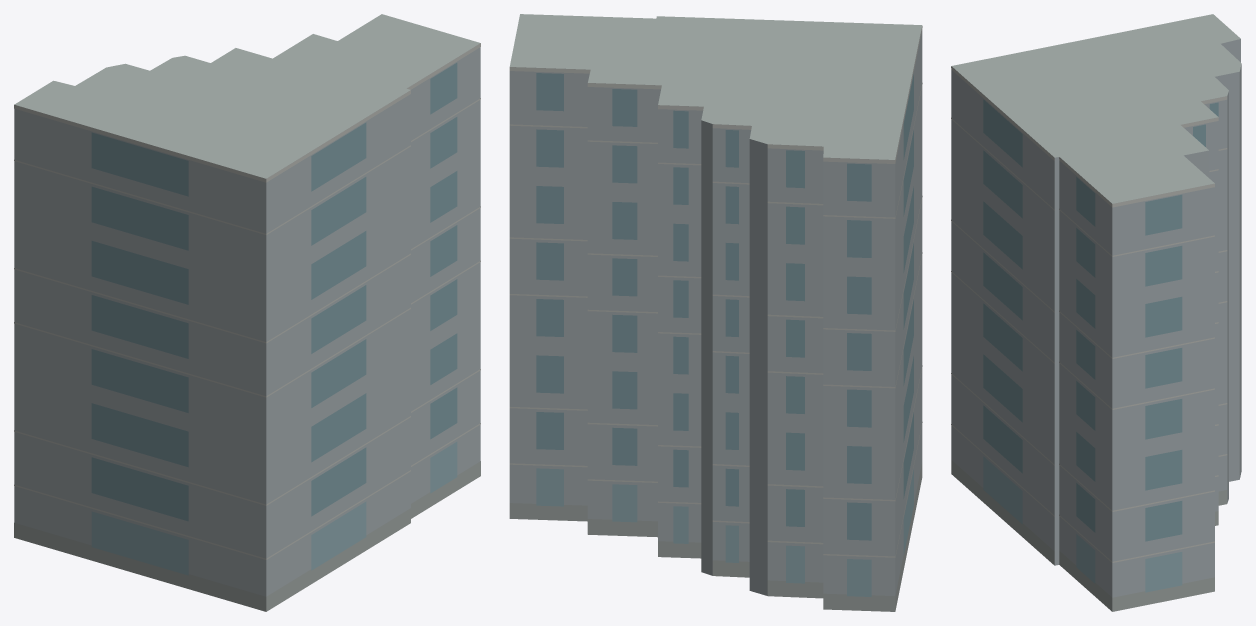
File: survey-upis-32765223.glb
3 views of the same model, side by side, from view 1: azimuth 30°, elevation 25°; view 2: azimuth 150°, elevation 25°; view 3: azimuth 270°, elevation 25° (orthographic). The views are drawn at different scales.
Visible parts, largest first — view 1: survey-upis-32765223.tmp; view 2: survey-upis-32765223.tmp; view 3: survey-upis-32765223.tmp.
Part boxes in pixels (bbox=[...]): survey-upis-32765223.tmp: bbox=[14, 14, 480, 611]; survey-upis-32765223.tmp: bbox=[509, 14, 922, 611]; survey-upis-32765223.tmp: bbox=[951, 14, 1241, 611].
Size of the model in its own units: 26.97 by 27 by 17.43.
